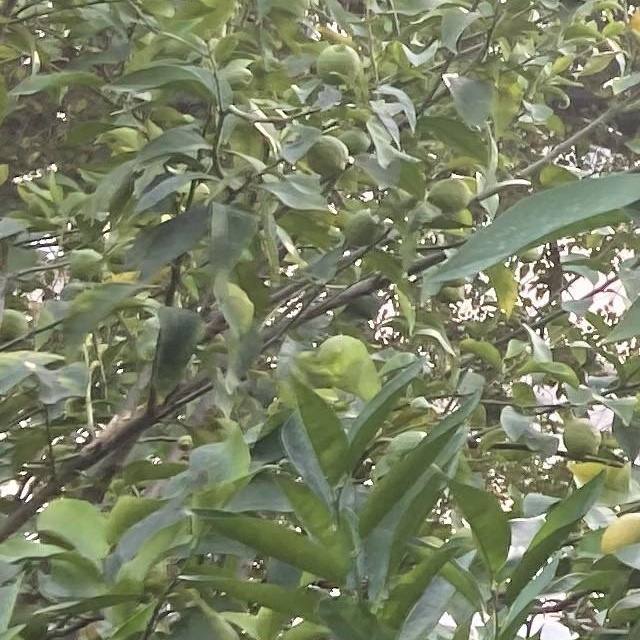orange: (598, 503, 640, 577)
